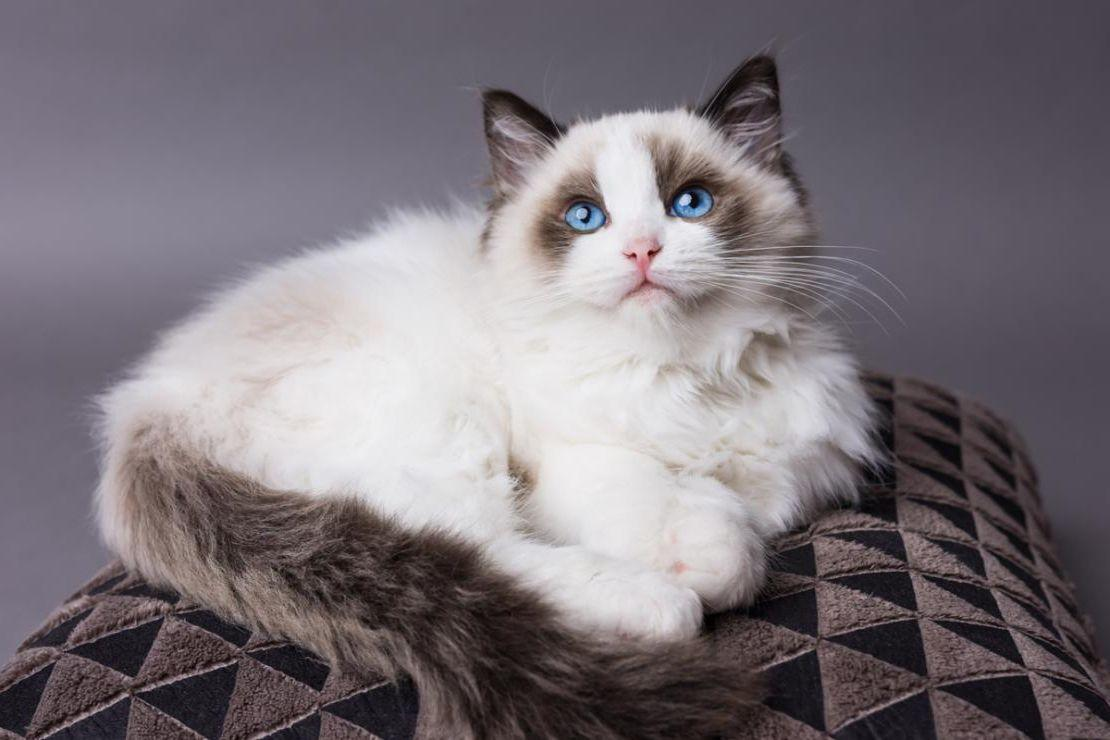ragdoll: (461, 30, 821, 397)
